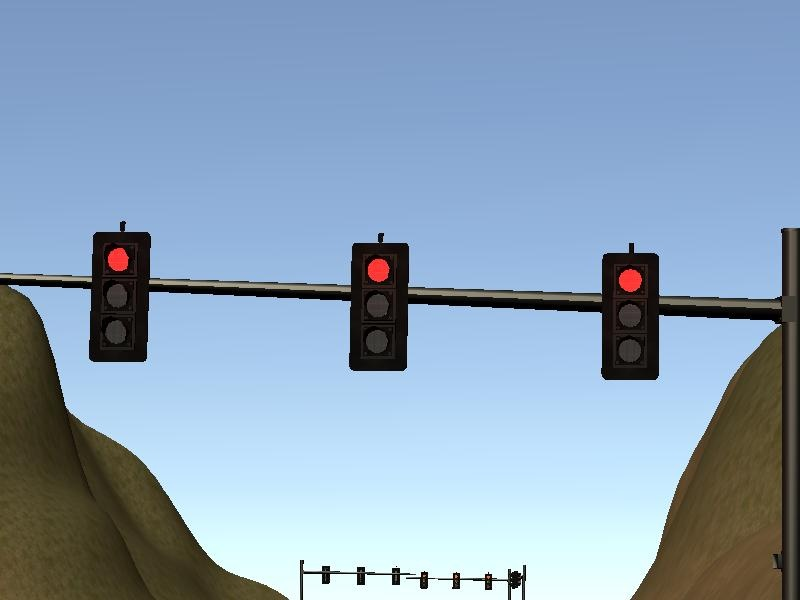RED: (349, 242, 408, 373), (89, 230, 148, 361), (601, 253, 660, 380)
